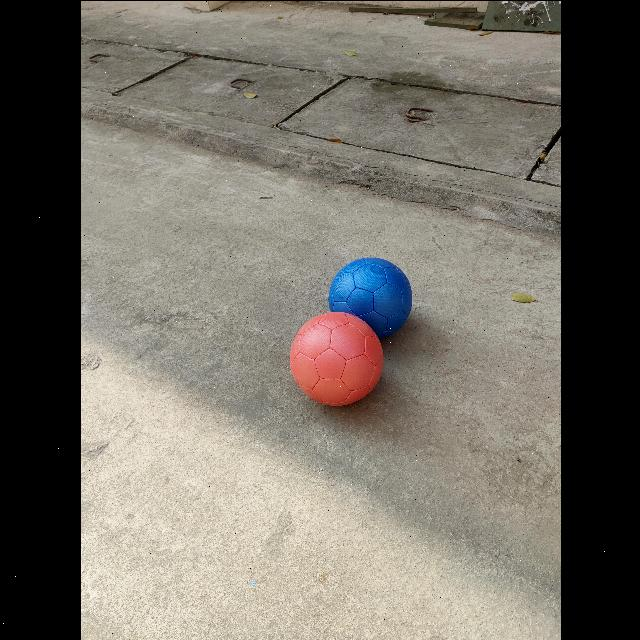B: (328, 257, 412, 338)
R: (289, 311, 382, 405)
